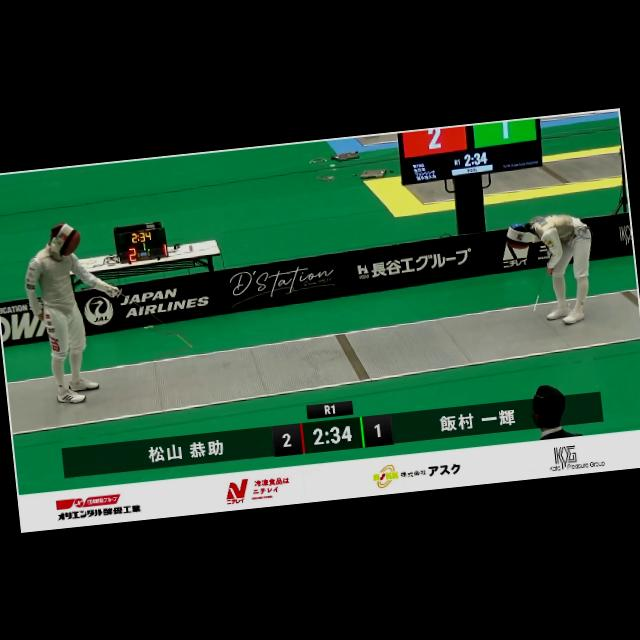blade: (104, 274, 199, 358), (524, 247, 566, 314)
